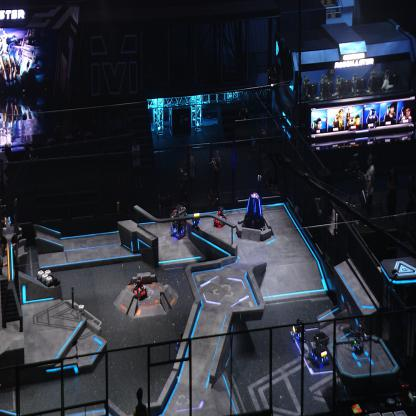car: (310, 331, 330, 368), (169, 205, 187, 238), (132, 273, 147, 301), (292, 318, 308, 342), (214, 204, 226, 228)
